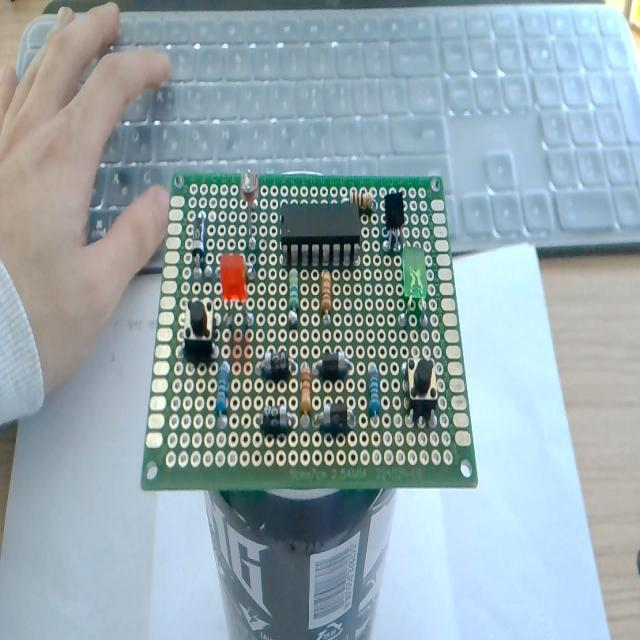IC: (278, 199, 361, 265)
cds: (240, 172, 260, 258)
diode: (314, 401, 354, 434), (313, 349, 352, 382), (261, 400, 295, 436), (260, 350, 294, 382), (191, 213, 206, 266)
led: (399, 243, 432, 327), (219, 252, 247, 304)
resistor: (215, 361, 231, 417), (368, 362, 380, 418), (320, 268, 332, 323), (288, 266, 299, 322), (300, 365, 312, 416), (350, 188, 370, 212)
switch: (406, 357, 438, 425), (183, 298, 217, 360)
transistor: (383, 190, 405, 252)
